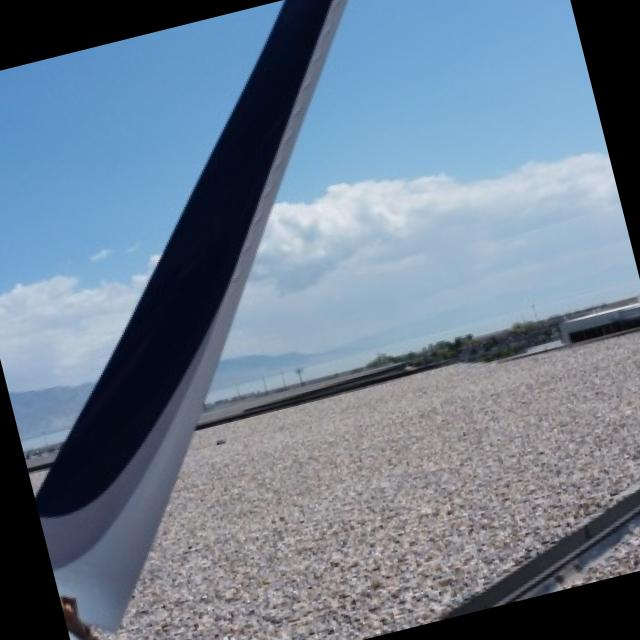healthy: (38, 0, 345, 640), (0, 0, 282, 384)
